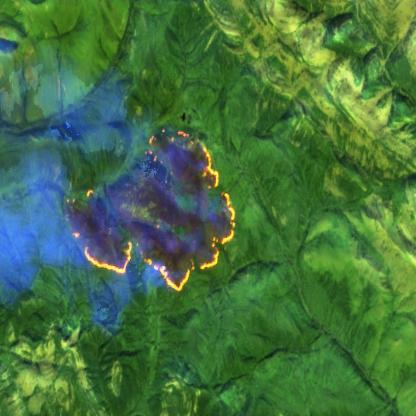fire: (64, 126, 240, 296)
